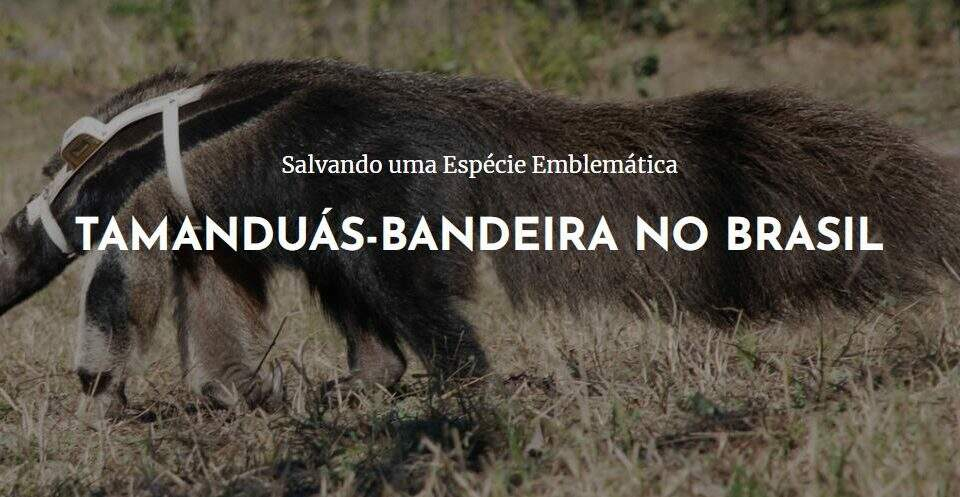TamanduaBandeira: (18, 55, 932, 393)
